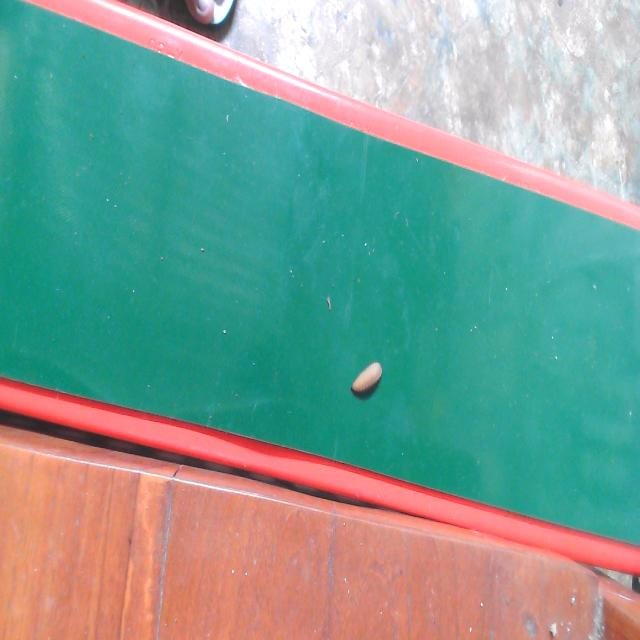Maggot: (349, 363, 384, 401)
